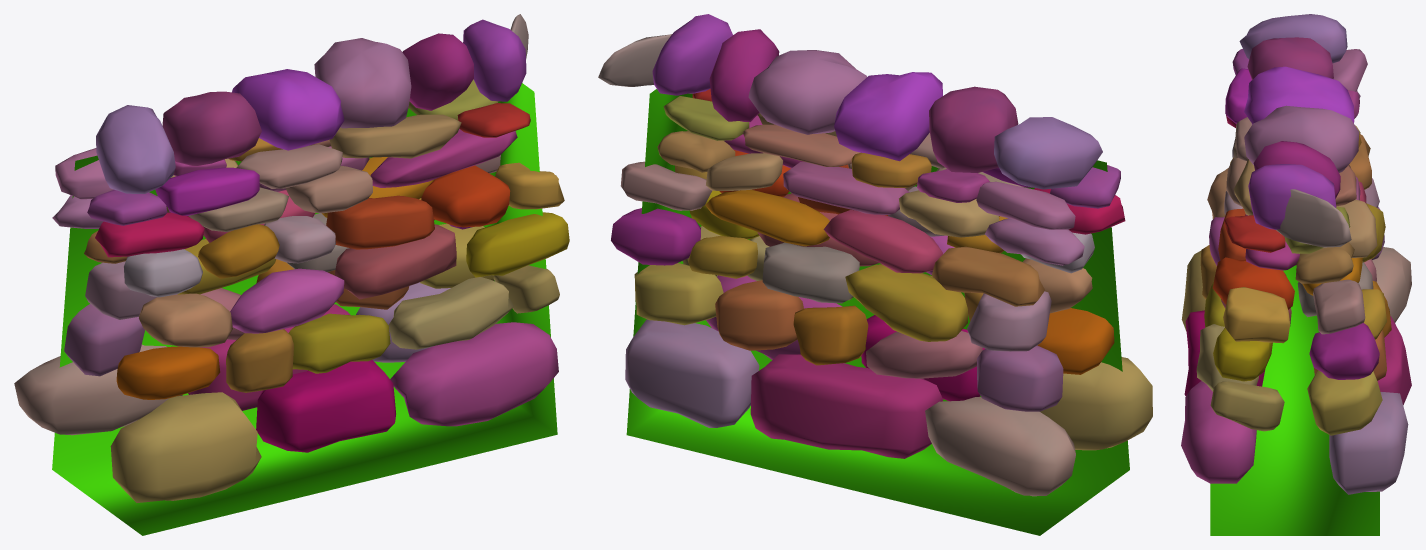
File: SM_Prop_wall_stone_18.glb
3 renders of one model, left to right at view 1: azimuth 30°, elevation 25°; view 2: azimuth 150°, elevation 25°; view 3: azimuth 270°, elevation 25°, orthographic. The views are drawn at different scales.
Visible parts, largest first — view 1: SM_Prop_wall_stone_18; view 2: SM_Prop_wall_stone_18; view 3: SM_Prop_wall_stone_18.
Boxes of the visible parts, <box> form: SM_Prop_wall_stone_18: <box>14,14,569,535</box>; SM_Prop_wall_stone_18: <box>598,14,1152,535</box>; SM_Prop_wall_stone_18: <box>1181,14,1411,535</box>.
Size of the model in its own units: 2.31 by 1.74 by 1.01.
